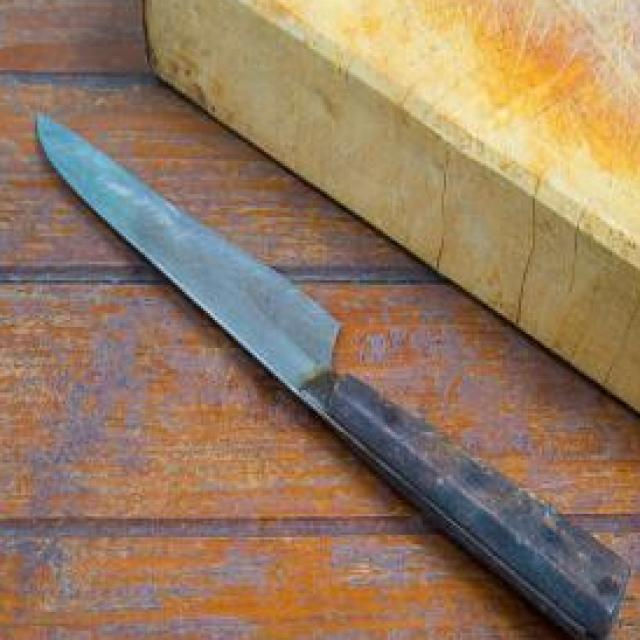knife: (33, 110, 635, 640)
